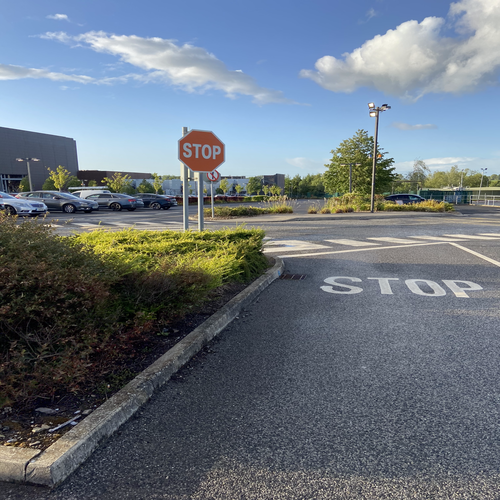Stop: (178, 128, 227, 169)
